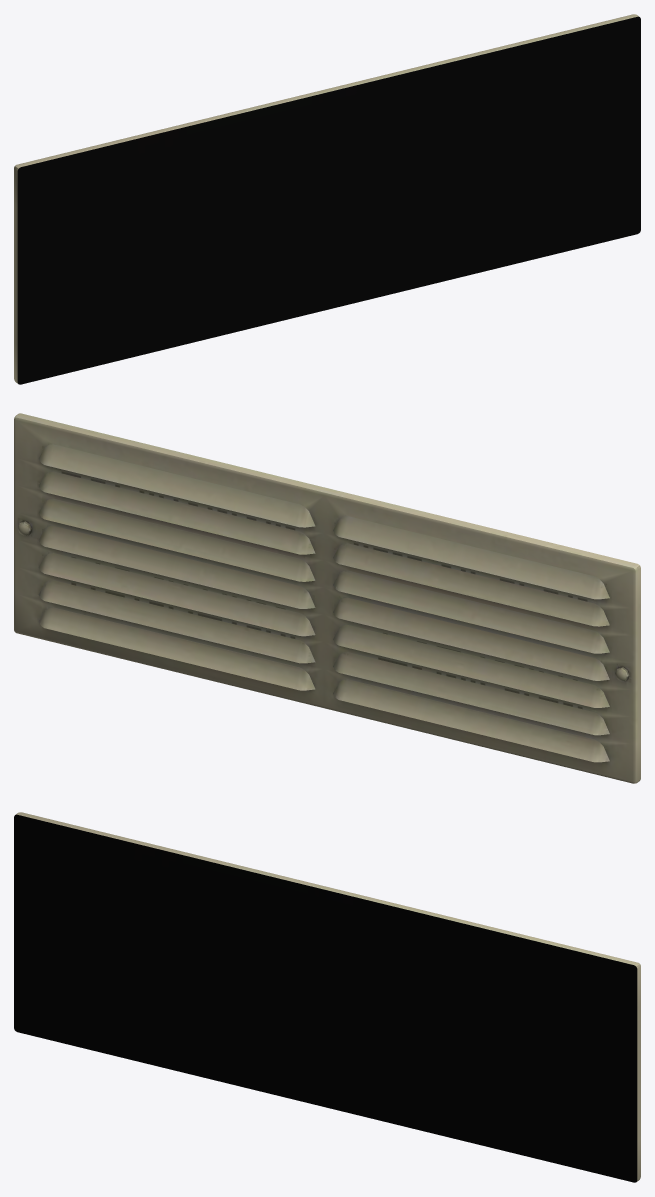
The picture shows the model from 3 angles, top to bottom: view 1: azimuth 30°, elevation 25°; view 2: azimuth 150°, elevation 25°; view 3: azimuth 330°, elevation 25°; orthographic projection.
Visible parts, largest first — view 1: body0_model0_lod0_mesh0; view 2: body0_model0_lod0_mesh0; view 3: body0_model0_lod0_mesh0.
Part boxes in pixels (x1,y1,x2,y2): body0_model0_lod0_mesh0: (14,14,640,384); body0_model0_lod0_mesh0: (14,413,640,783); body0_model0_lod0_mesh0: (14,812,640,1182).
Bounding box in the file's own units: 72 × 24 × 2.
1 material, 1 textured.
